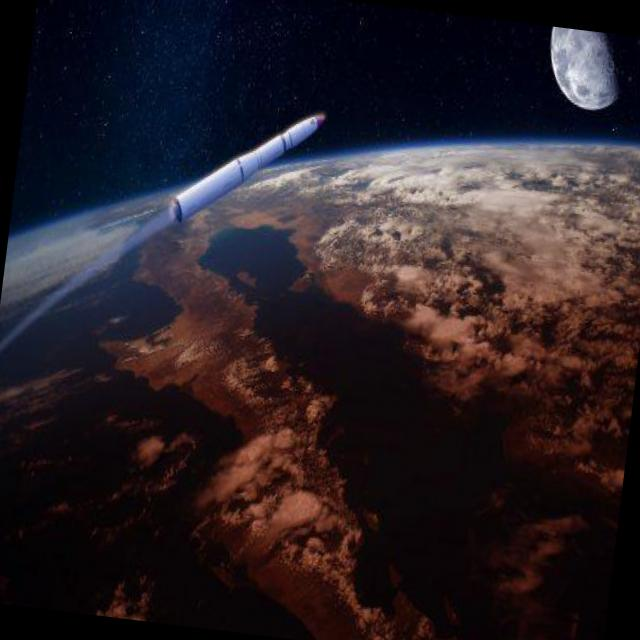rocket: (127, 83, 334, 272)
